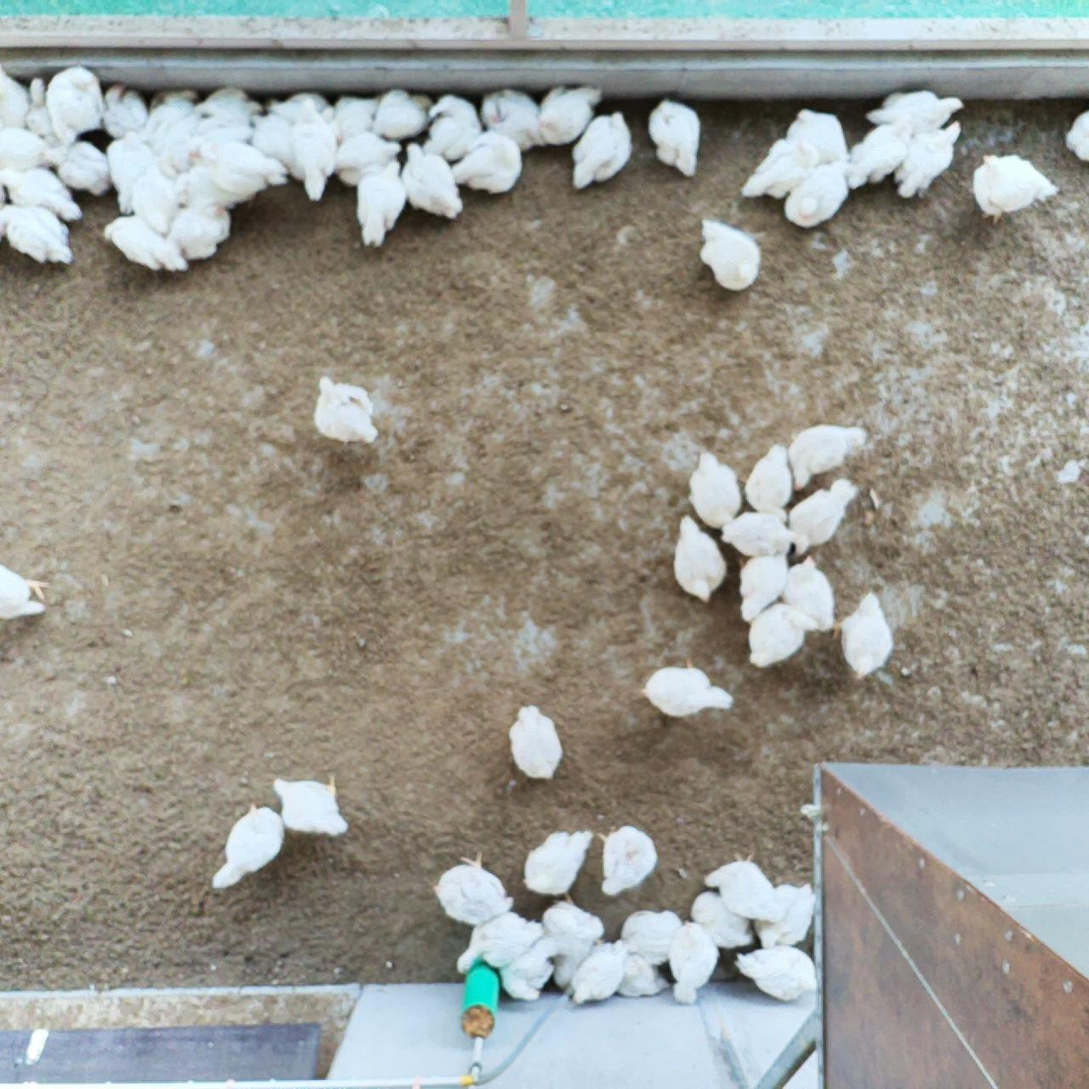chicken: (966, 151, 1064, 229), (188, 142, 285, 214), (211, 804, 284, 892), (890, 119, 968, 201), (784, 420, 866, 496), (454, 908, 544, 973), (432, 852, 514, 923), (640, 660, 738, 719), (788, 479, 860, 559), (282, 99, 339, 199), (395, 140, 466, 219), (100, 212, 191, 273), (519, 827, 592, 903), (41, 66, 108, 147), (705, 851, 784, 919), (737, 137, 822, 200), (837, 590, 897, 679), (564, 113, 634, 189), (669, 513, 728, 603), (0, 162, 84, 225), (844, 118, 915, 192), (307, 375, 382, 445), (693, 217, 761, 293), (0, 197, 74, 266), (746, 605, 821, 673), (734, 947, 824, 1003), (784, 160, 852, 233), (751, 879, 818, 953), (497, 930, 562, 1005), (352, 161, 405, 251), (778, 556, 837, 636), (106, 130, 160, 217), (536, 77, 603, 147), (450, 127, 518, 195), (277, 771, 347, 837), (647, 98, 704, 177), (688, 450, 744, 530), (422, 93, 485, 164), (38, 142, 115, 200), (328, 130, 402, 190), (865, 87, 970, 129), (595, 825, 656, 897), (688, 888, 753, 954), (668, 921, 717, 1008), (510, 705, 565, 780), (166, 198, 231, 261), (478, 87, 542, 148), (171, 164, 243, 218), (567, 945, 630, 1006), (618, 905, 683, 964), (720, 504, 795, 555), (744, 439, 794, 515), (739, 549, 788, 625), (537, 894, 602, 948), (323, 93, 382, 152), (786, 107, 850, 161), (610, 943, 671, 999), (184, 114, 251, 164), (0, 562, 53, 623), (98, 81, 151, 141), (135, 162, 177, 237), (248, 113, 300, 173), (374, 89, 433, 141), (22, 74, 65, 145), (261, 88, 337, 128), (0, 119, 58, 171), (154, 112, 197, 180), (147, 85, 202, 134), (195, 88, 267, 125), (550, 934, 590, 996), (1059, 104, 1089, 170), (0, 61, 24, 127)
